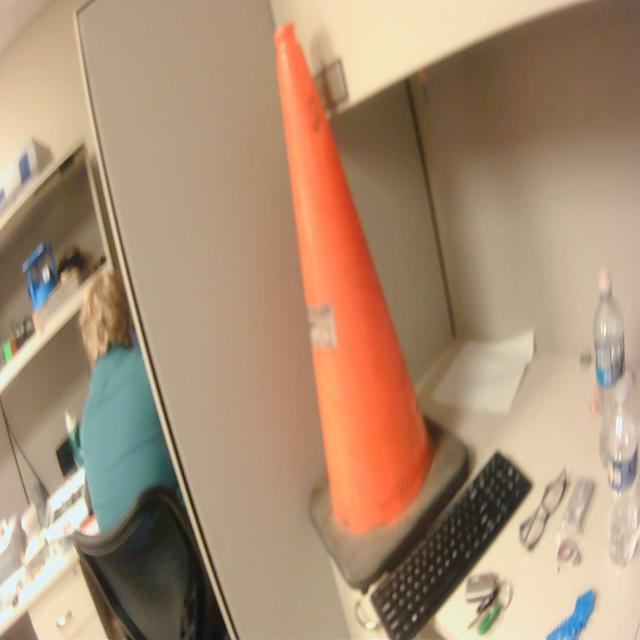traffic cone: (273, 17, 473, 599)
